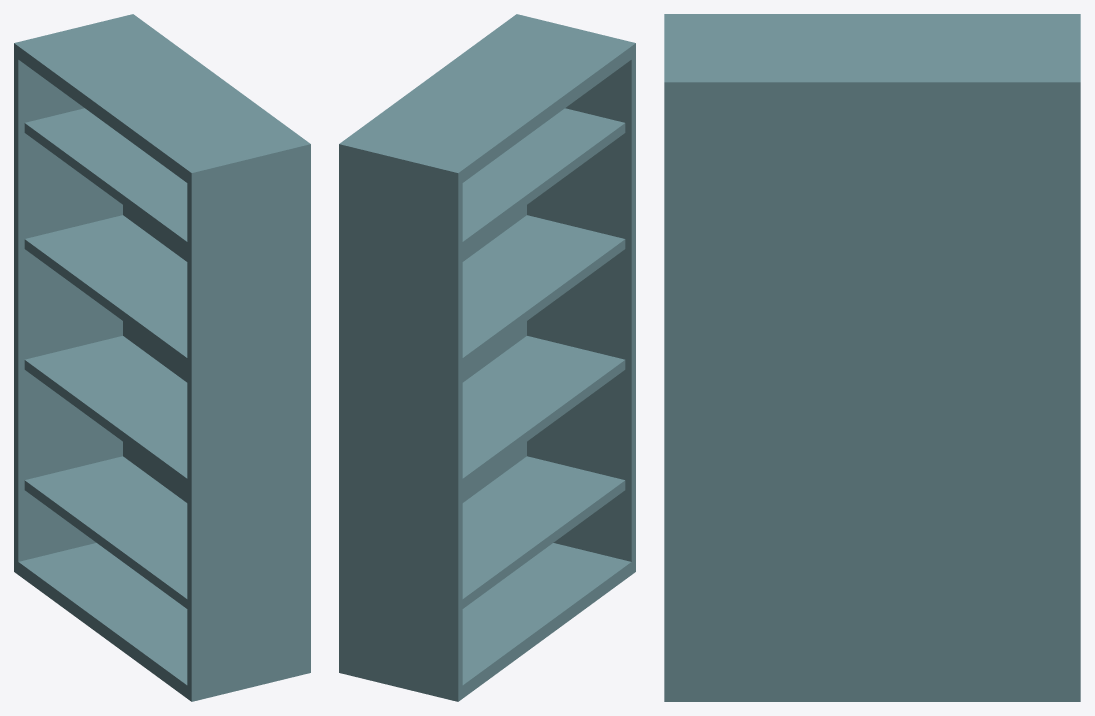
The model's file is Kast.fbx.
3 renders of one model, left to right at view 1: azimuth 30°, elevation 25°; view 2: azimuth 150°, elevation 25°; view 3: azimuth 270°, elevation 25°, orthographic. The views are drawn at different scales.
Parts seen in each view (by area): view 1: pCube37; view 2: pCube37; view 3: pCube37.
Part boxes in pixels (bbox=[...]): pCube37: bbox=[14, 14, 310, 701]; pCube37: bbox=[339, 14, 635, 701]; pCube37: bbox=[664, 14, 1080, 701].
Bounding box in the file's own units: 0.5182 × 2.2 × 1.34.
